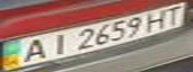2: (75, 25, 100, 51)
5: (109, 18, 130, 42)
6: (93, 21, 115, 47)
9: (124, 15, 148, 38)
A: (12, 36, 54, 64)
H: (139, 8, 172, 33)
I: (39, 30, 75, 56)
T: (157, 4, 190, 27)
